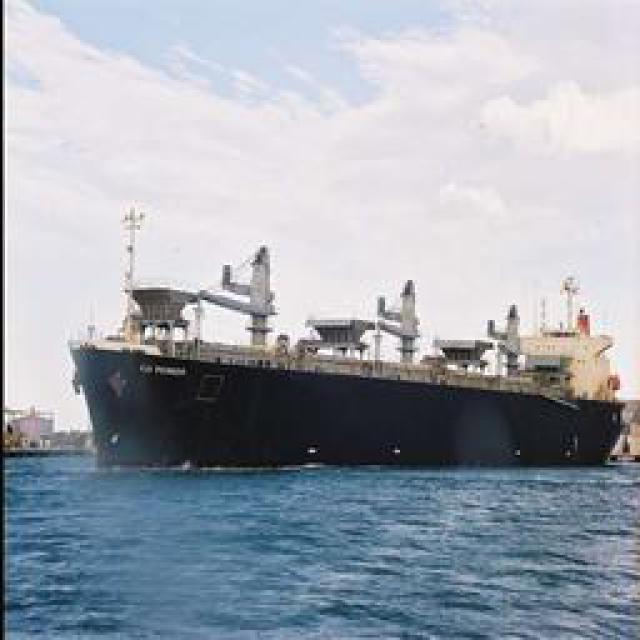Ship: (72, 220, 620, 463)
